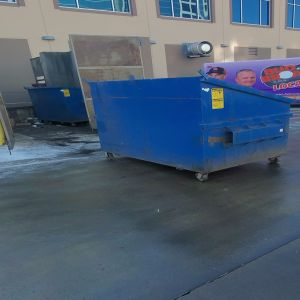Dumpster: (88, 80, 292, 180)
Person: (234, 69, 259, 89)
